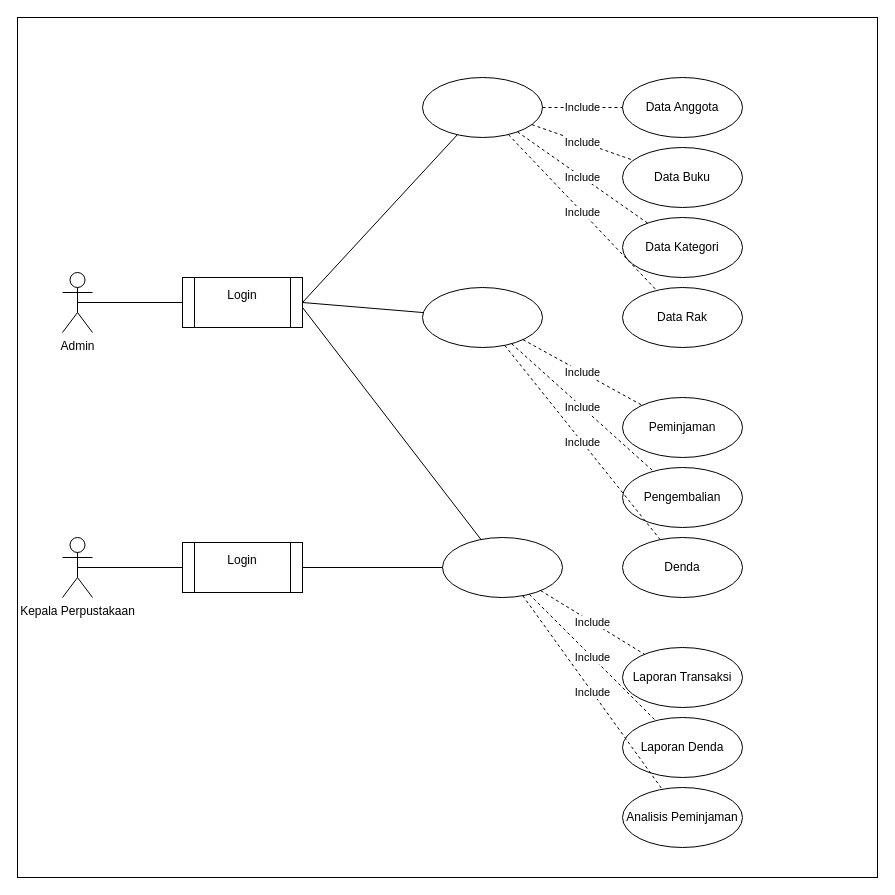
Image size: 895x895. Some labels were removed from this diagram. Each missing label, with the centre of its shape:
"Data Master" belongs at point 482,107.
"Laporan" belongs at point 502,567.
"Transaksi" belongs at point 482,317.
